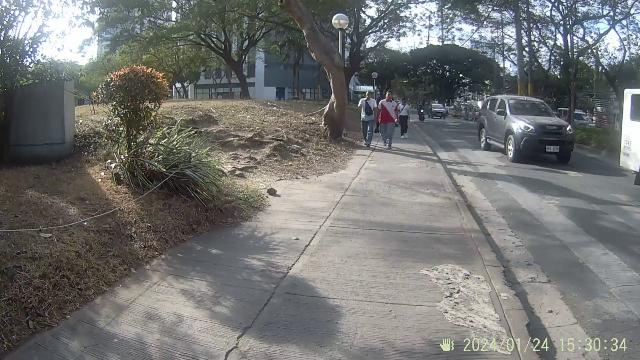car: (472, 96, 584, 166)
lamp_post: (324, 8, 358, 56)
tree: (300, 0, 354, 148), (368, 68, 384, 96)
